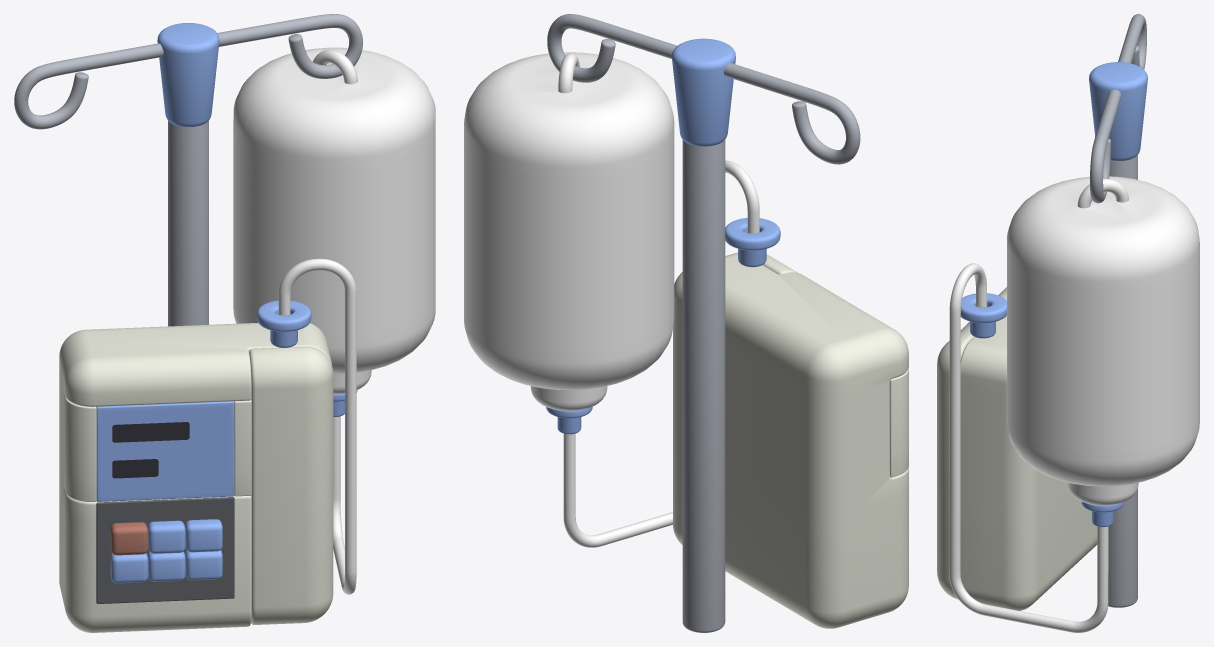
Rendered from Infusion Pump.glb.
3 views of the same model, side by side, from view 1: azimuth 30°, elevation 25°; view 2: azimuth 150°, elevation 25°; view 3: azimuth 270°, elevation 25° (orthographic). The views are drawn at different scales.
Parts seen in each view (by area): view 1: Cylinder, Cube, Cube.001, Cube.002, Cylinder.005, Cube.006, Plane.001, Cube.003, Plane, Cylinder.006, Cube.005, Cylinder.003; view 2: Cylinder, Cube, Cylinder.005, Plane.001, Cylinder.006, Plane, Cube.002, Cylinder.003, Cylinder.004; view 3: Cylinder, Cube, Plane, Cylinder.006, Cylinder.005, Cube.001, Plane.001, Cylinder.003, Cylinder.004.
Boxes of the visible parts, bbox=[...] form: Cylinder: bbox=[233, 47, 435, 394]; Cube: bbox=[59, 323, 332, 632]; Cube.001: bbox=[249, 347, 333, 624]; Cube.002: bbox=[64, 395, 251, 501]; Cylinder.005: bbox=[168, 120, 208, 326]; Cube.006: bbox=[96, 497, 234, 603]; Plane.001: bbox=[14, 14, 362, 129]; Cube.003: bbox=[110, 519, 222, 583]; Plane: bbox=[278, 258, 356, 594]; Cylinder.006: bbox=[157, 23, 219, 127]; Cube.005: bbox=[112, 422, 189, 478]; Cylinder.003: bbox=[257, 300, 311, 347]; Cylinder: bbox=[464, 52, 674, 410]; Cube: bbox=[673, 252, 908, 628]; Cylinder.005: bbox=[682, 139, 725, 632]; Plane.001: bbox=[547, 14, 860, 164]; Cylinder.006: bbox=[671, 38, 735, 146]; Plane: bbox=[563, 160, 759, 547]; Cube.002: bbox=[890, 368, 908, 477]; Cylinder.003: bbox=[725, 218, 780, 267]; Cylinder.004: bbox=[546, 406, 592, 434]; Cylinder: bbox=[1007, 176, 1199, 505]; Cube: bbox=[960, 287, 1097, 610]; Plane: bbox=[949, 263, 1108, 632]; Cylinder.006: bbox=[1089, 62, 1147, 160]; Cylinder.005: bbox=[1108, 155, 1137, 607]; Cube.001: bbox=[937, 322, 974, 599]; Plane.001: bbox=[1090, 14, 1146, 203]; Cylinder.003: bbox=[960, 293, 1006, 338]; Cylinder.004: bbox=[1081, 502, 1124, 527].
Size of the model in its own units: 3.67 by 5.02 by 2.26.
